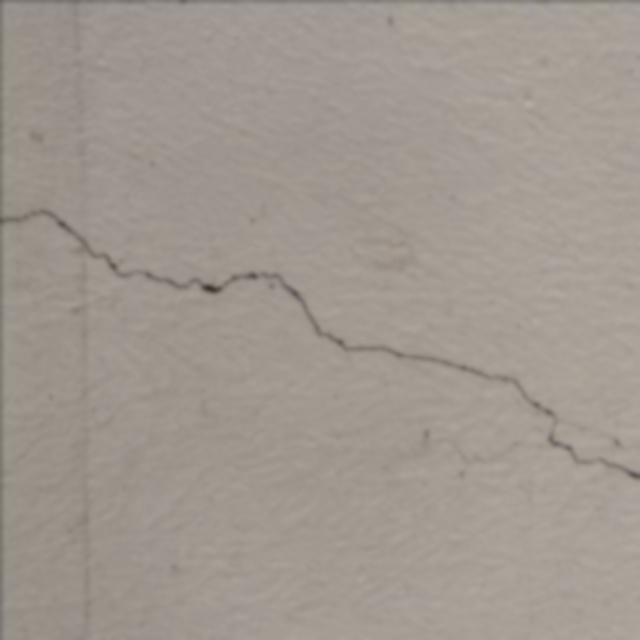SurfaceCrack: (0, 165, 639, 495)
